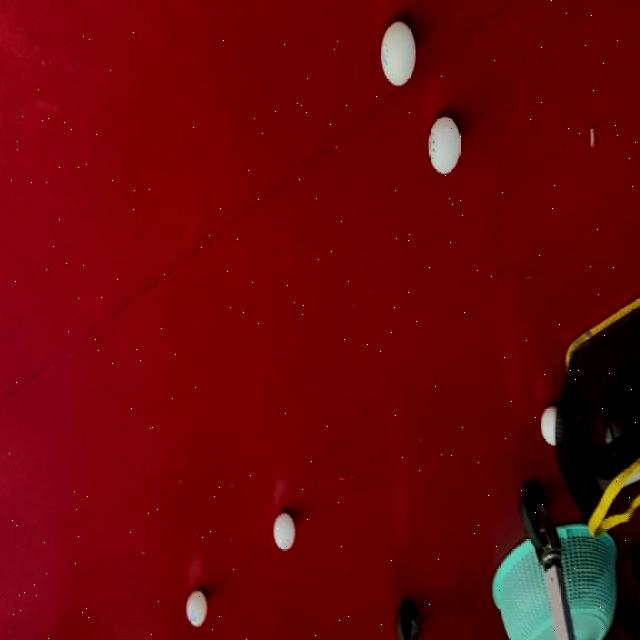ping-pong-ball: (380, 20, 418, 90), (426, 116, 464, 176), (272, 510, 298, 554), (183, 589, 210, 631)
